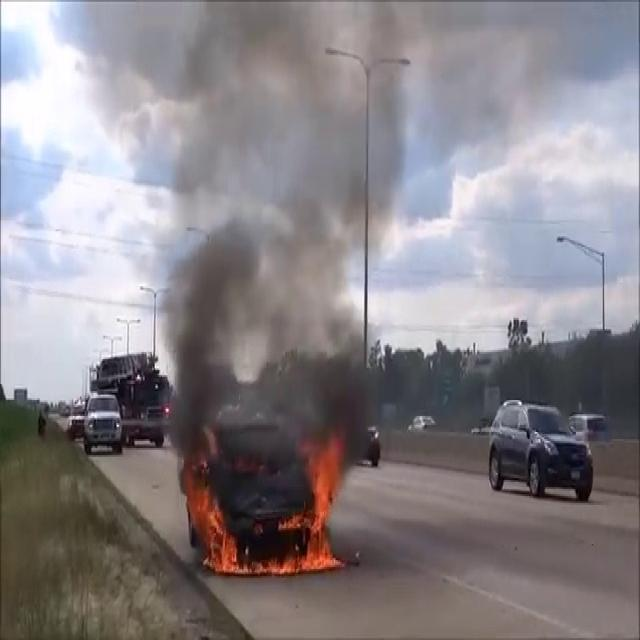Fire: (185, 434, 346, 580)
Smoke: (162, 1, 408, 442)
